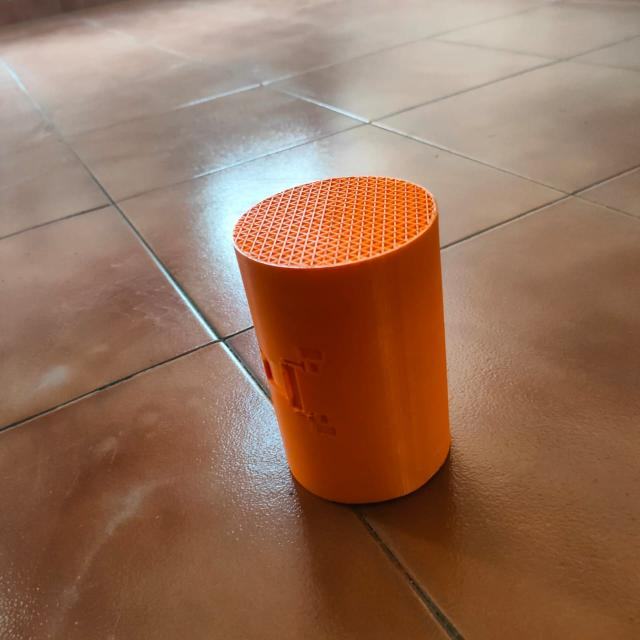Cylinder: (230, 175, 452, 504)
